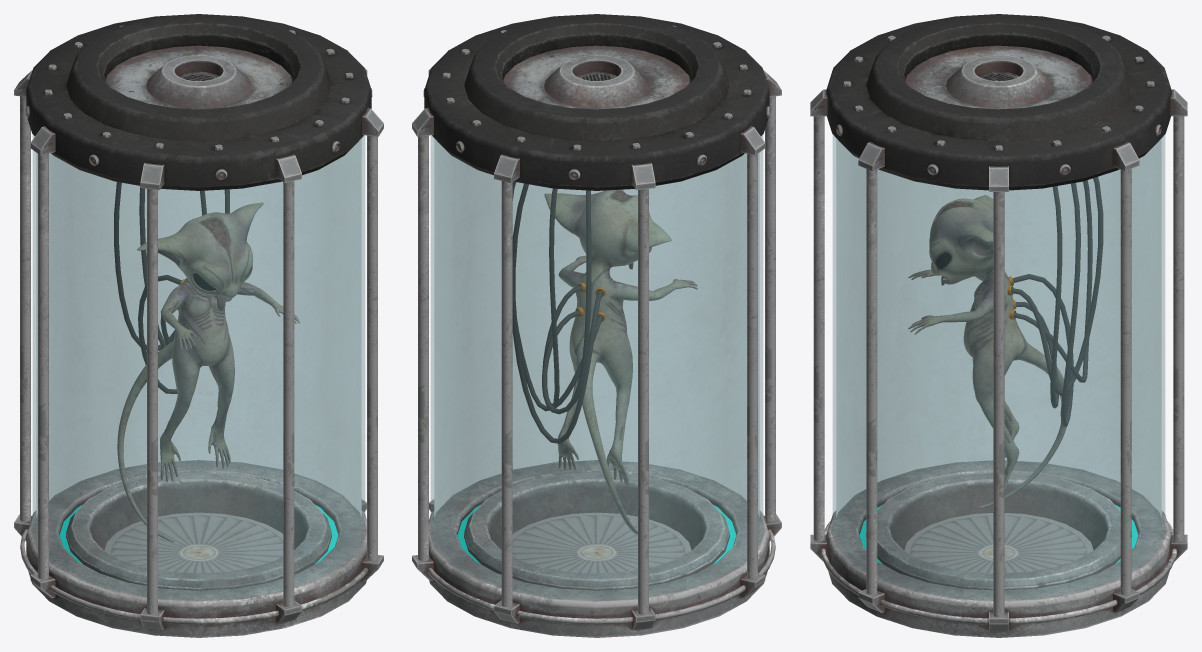
File: creature_specimen_jar.glb
3 views of the same model, side by side, from view 1: azimuth 30°, elevation 25°; view 2: azimuth 150°, elevation 25°; view 3: azimuth 270°, elevation 25° (orthographic).
Visible parts, largest first — view 1: Object_3, Object_2; view 2: Object_3, Object_2; view 3: Object_3, Object_2.
Part boxes in pixels (<box>): Object_3: <box>14,14,383,637</box>; Object_2: <box>117,202,299,542</box>; Object_3: <box>412,14,781,637</box>; Object_2: <box>544,189,697,533</box>; Object_3: <box>810,14,1187,637</box>; Object_2: <box>908,195,1067,508</box>.
Bounding box in the file's own units: 0.3449 × 0.5029 × 0.3449.
Materials: 2 (2 with a texture image).
